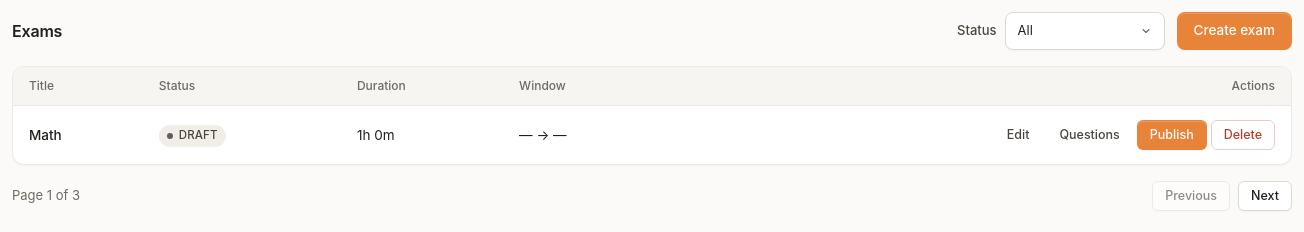
Test case: ExamList › paginates
The image size is (1304, 232).
Check: the text "Page 1 of 3" is shown, box [12,186,80,206]
Click the button "Next". click: (1265, 196)
box: [1238,181,1292,211]
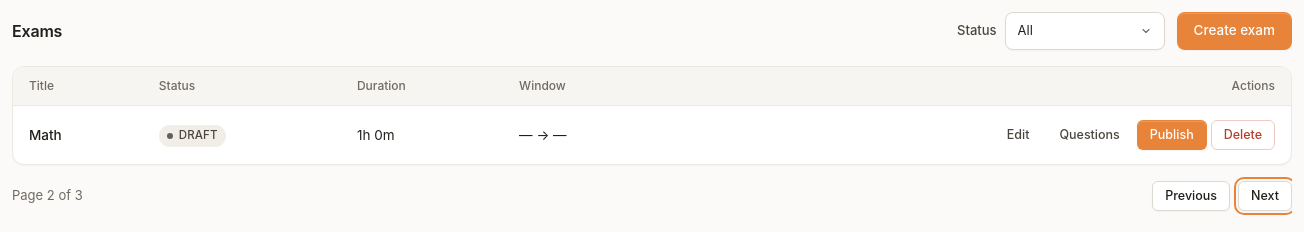
Check: the text "Page 2 of 3" is shown, box [12,186,83,206]
